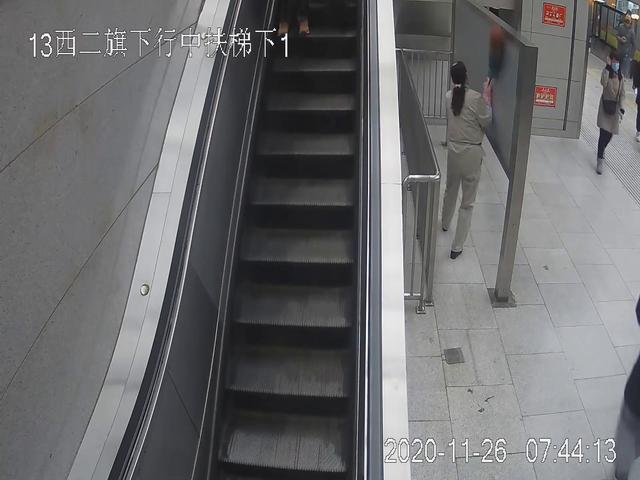person: (442, 63, 494, 259), (596, 52, 626, 176)
